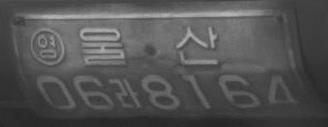0: (35, 74, 75, 111)
1: (181, 74, 216, 110)
4: (264, 72, 300, 109)
6: (216, 72, 262, 110), (75, 74, 114, 110)
8: (141, 73, 181, 110)
라: (114, 76, 140, 108)
영: (29, 27, 65, 66)
울산_D: (79, 26, 219, 66)
